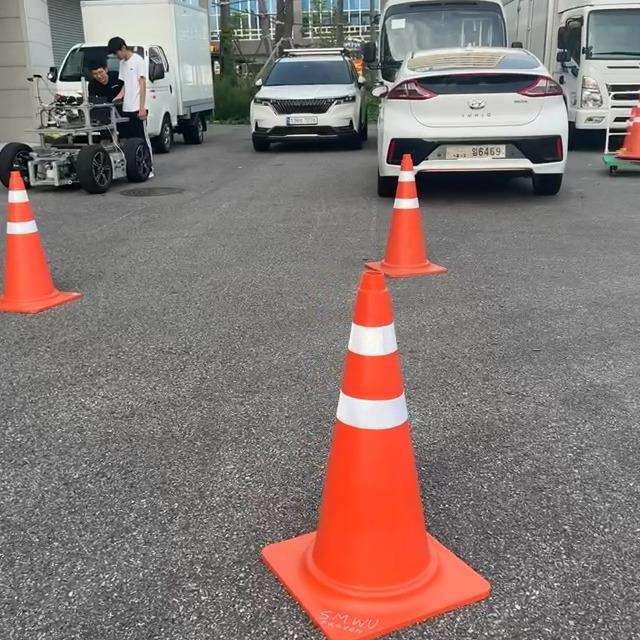fallen_object: (165, 250, 462, 592), (0, 153, 115, 371), (337, 150, 493, 303), (583, 105, 640, 187)
